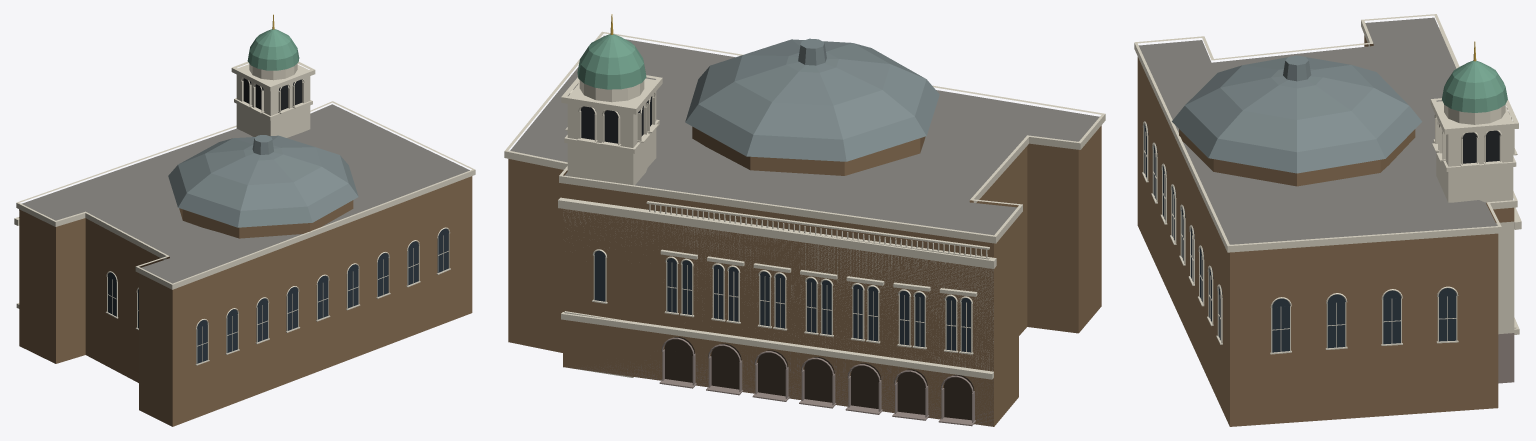
The model's file is cadogan_hall.glb.
The picture shows the model from 3 angles, left to right: view 1: azimuth 30°, elevation 25°; view 2: azimuth 150°, elevation 25°; view 3: azimuth 270°, elevation 25°; orthographic projection. The views are drawn at different scales.
Size of the model in its own units: 46.81 by 30.75 by 32.78.
